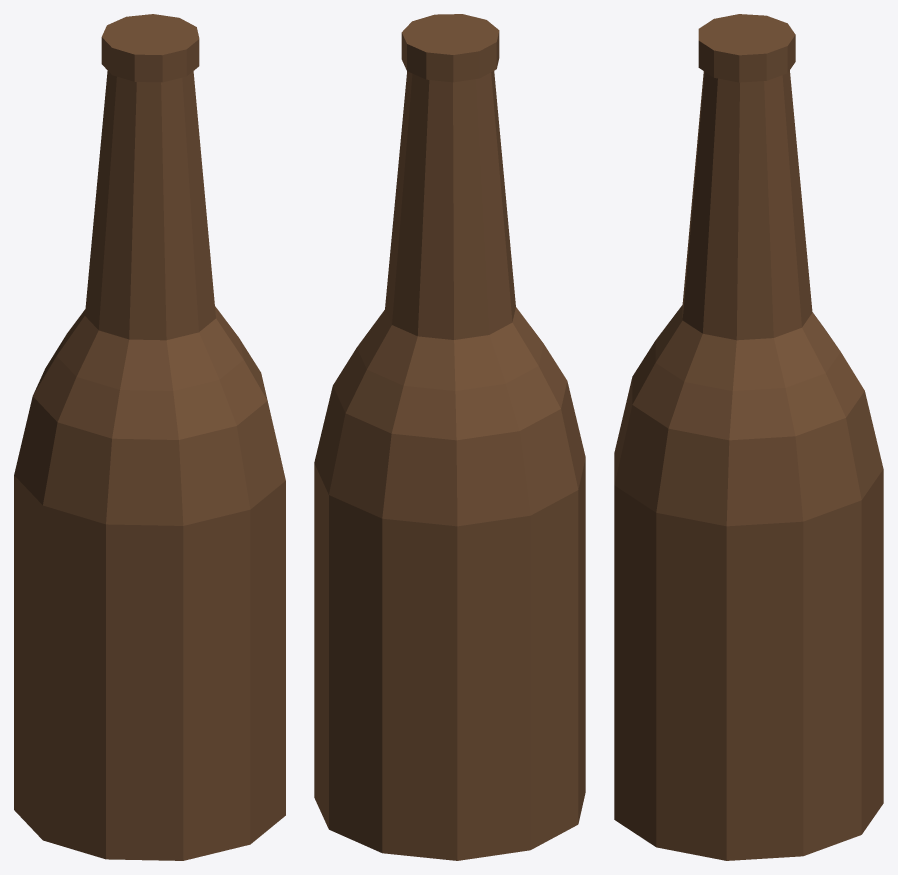
File: tavern-bottle-brown.glb
3 renders of one model, left to right at view 1: azimuth 30°, elevation 25°; view 2: azimuth 150°, elevation 25°; view 3: azimuth 270°, elevation 25°, orthographic.
Visible parts, largest first — view 1: Object_2; view 2: Object_2; view 3: Object_2.
Part boxes in pixels (x1,y1,x2,y2): Object_2: [14, 14, 285, 860]; Object_2: [314, 14, 585, 860]; Object_2: [614, 14, 883, 860].
Size of the model in its own units: 1.98 by 6.18 by 1.96.
